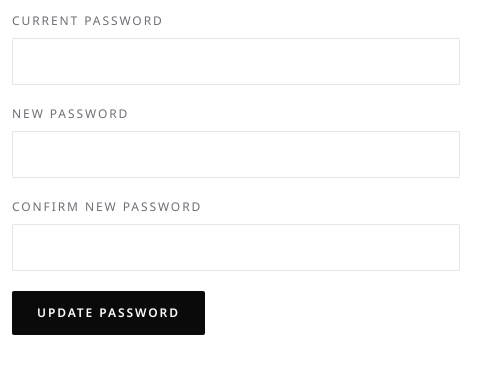
Test: ChangePasswordForm › shows a validation error when the new password is too short
Type "old-password" into the password field labelled "Current password" at {"x": 236, "y": 62}, box x1=12 y1=38 x2=460 y2=85
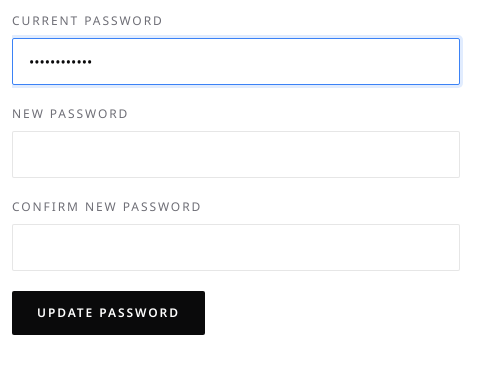
Type "short" into the password field labelled "New password" at {"x": 236, "y": 154}, box x1=12 y1=131 x2=460 y2=178
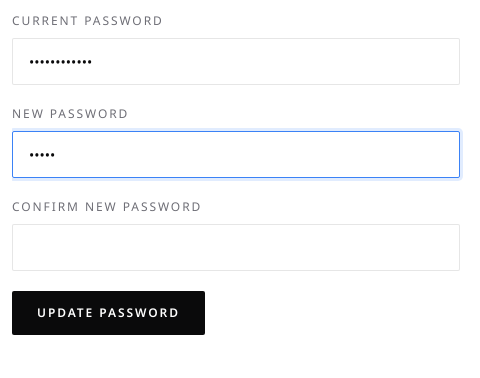
Type "short" into the password field labelled "Confirm new password" at {"x": 236, "y": 248}, box x1=12 y1=224 x2=460 y2=271
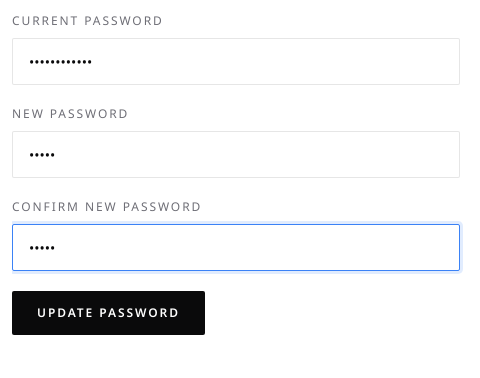
Click the button "Update password" at {"x": 108, "y": 313}, box x1=12 y1=291 x2=205 y2=335
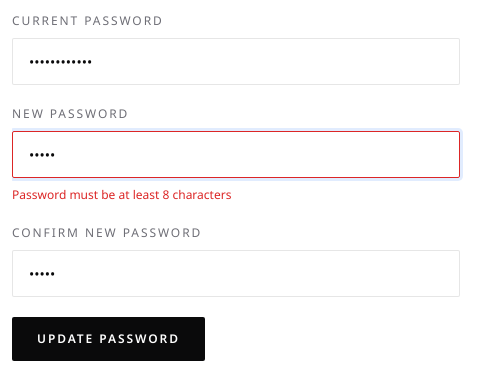
Expected: the text "Password must be at least 8 characters" is shown, x1=12 y1=186 x2=231 y2=203
